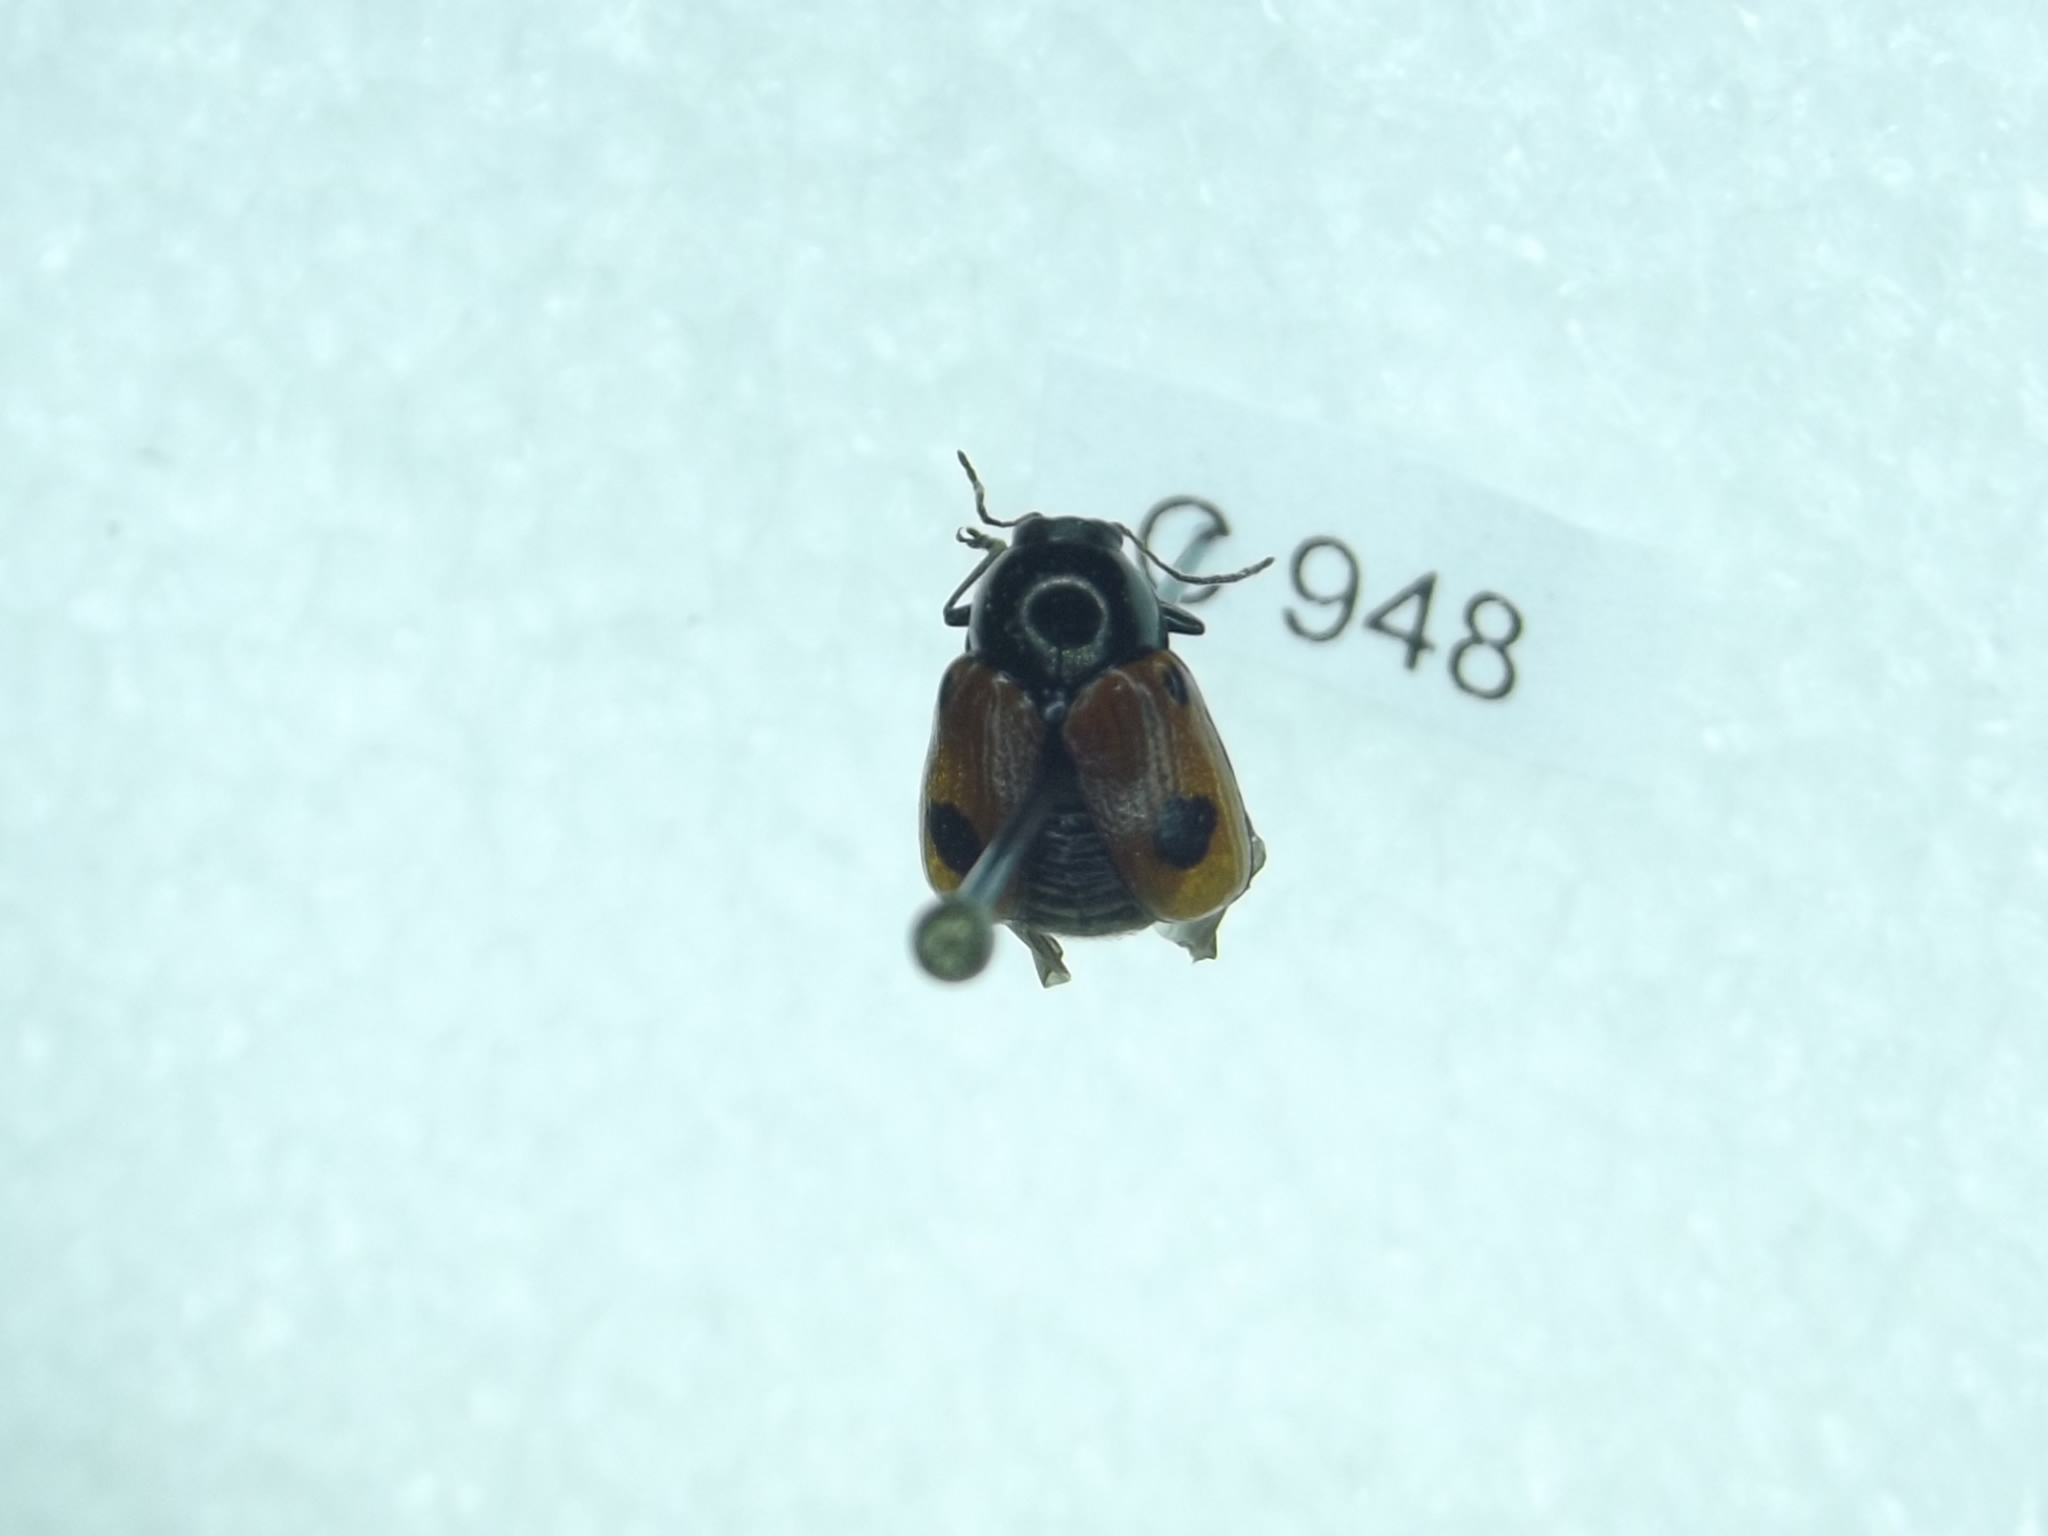Cryptocephalus_bipunctatus: (921, 439, 1277, 994)
